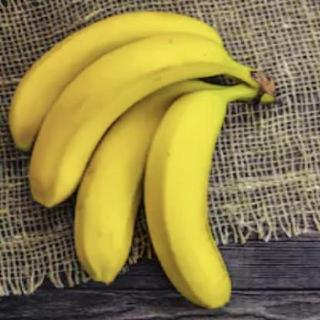banana: (27, 33, 260, 210), (71, 79, 252, 289), (6, 9, 260, 155), (143, 84, 255, 314)
